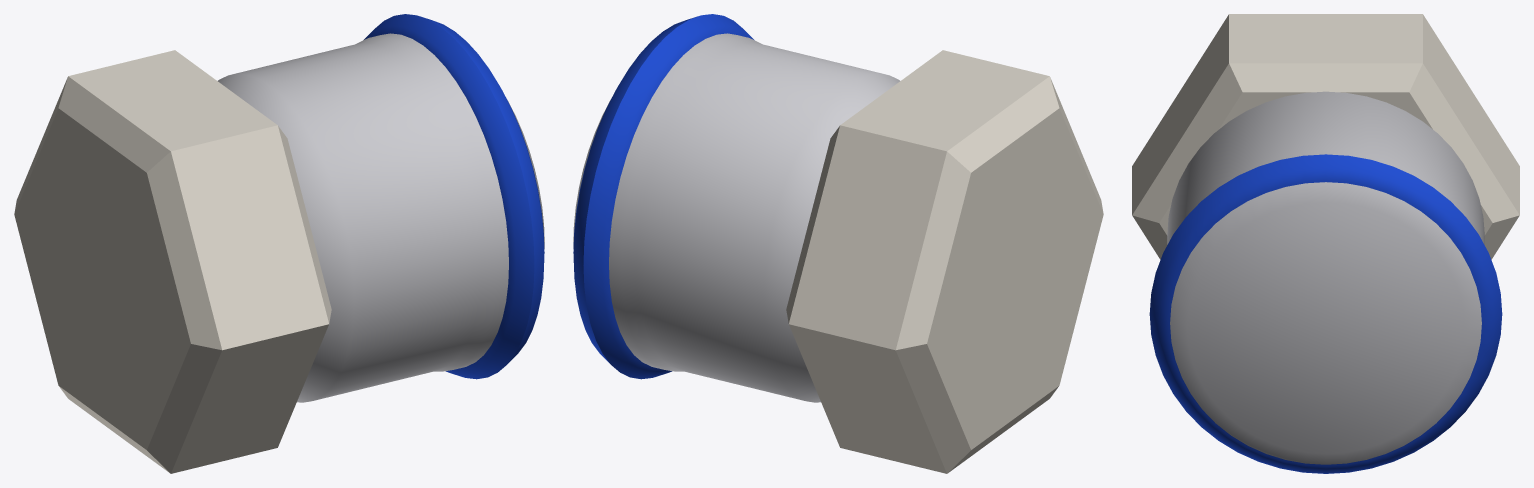
File: fitting_adp_35x114_F.glb
3 renders of one model, left to right at view 1: azimuth 30°, elevation 25°; view 2: azimuth 150°, elevation 25°; view 3: azimuth 270°, elevation 25°, orthographic. The views are drawn at different scales.
Parts seen in each view (by area): view 1: шестигранник переходника, раструб, кольцо пресс; view 2: шестигранник переходника, раструб, кольцо пресс; view 3: раструб, шестигранник переходника, кольцо пресс.
Part boxes in pixels (x1,y1,x2,y2): шестигранник переходника: [14, 50, 331, 473]; раструб: [218, 33, 544, 402]; кольцо пресс: [364, 14, 544, 379]; шестигранник переходника: [786, 50, 1103, 473]; раструб: [573, 33, 899, 402]; кольцо пресс: [573, 14, 753, 379]; раструб: [1167, 91, 1484, 464]; шестигранник переходника: [1132, 14, 1519, 259]; кольцо пресс: [1149, 154, 1502, 473].
Bounding box in the file's own units: 0.055 × 0.0483 × 0.0531.
